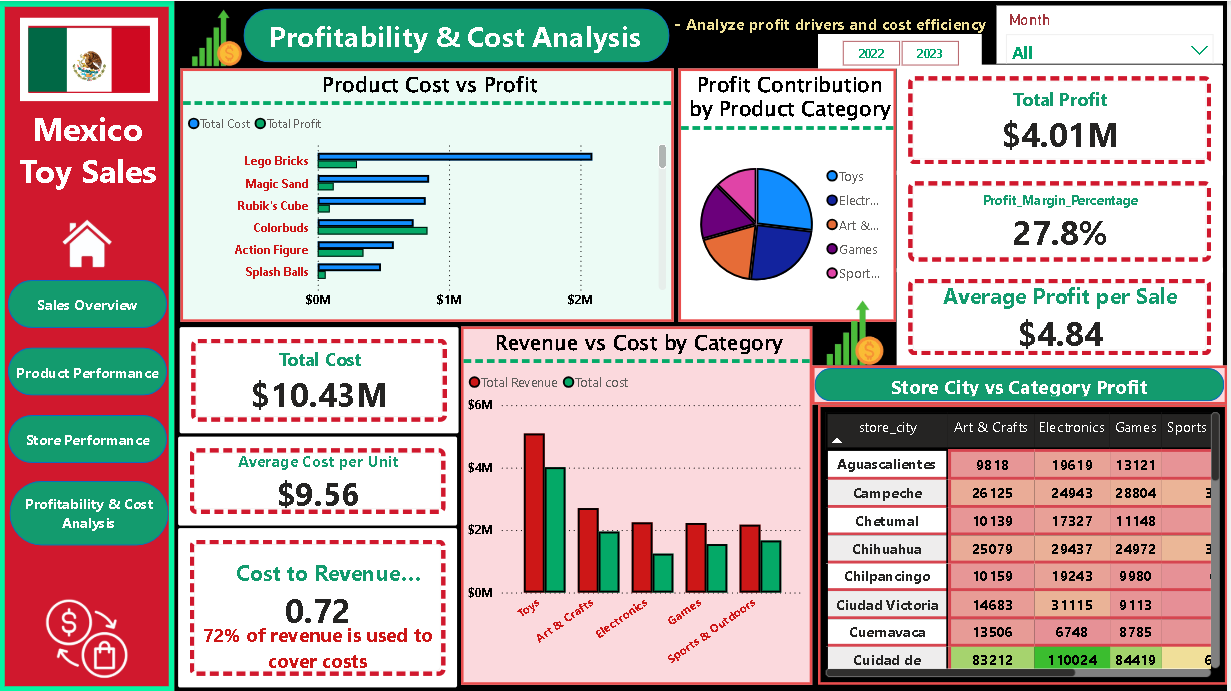

The dashboard page shown, as its layout file describes it:
{"tool":"powerbi","page":{"name":"Profitability & Cost Analysis","canvas":[1280,720],"ordinal":4},"visuals":[{"type":"shape","box":[0,0,182.9,720],"z":0},{"type":"image","box":[21.9,17.2,143.8,87.5],"z":1000},{"type":"shape","box":[6.3,104.7,171.9,98.5],"z":2000},{"type":"shape","box":[254.8,7.8,443.9,56.3],"z":3000},{"type":"image","box":[25,615.8,132.9,96.9],"z":4000},{"type":"cardVisual","fields":{"Data":["final (2).Avg Profit per Sale"]},"box":[930,272,350.1,114.1],"z":5000},{"type":"cardVisual","fields":{"Data":["final (2).Total_Profit"]},"box":[930,61,350.1,126.6],"z":6000},{"type":"cardVisual","fields":{"Data":["final (2).Average Cost per Unit"]},"box":[181.3,448.6,301.7,103.2],"z":7000},{"type":"shape","box":[9.4,290.7,165.7,50],"z":8000},{"type":"shape","box":[9.4,361.1,165.7,50],"z":9000},{"type":"actionButton","box":[26.6,295.4,132.9,40.6],"z":10000},{"type":"cardVisual","fields":{"Data":["final (2).Total Cost"]},"box":[182.9,334.5,301.7,121.9],"z":11000},{"type":"shape","box":[9.4,431.4,165.7,50],"z":12000},{"type":"actionButton","box":[10.9,365.7,165.7,40.6],"z":13000},{"type":"textbox","box":[698.7,4.7,343.9,56.3],"z":14000},{"type":"cardVisual","fields":{"Data":["final (2).Profit_Margin_Percentage"]},"box":[930,170.4,350.1,118.8],"z":15000},{"type":"cardVisual","fields":{"Data":["final (2).Cost to Revenue Ratio"]},"box":[181.3,543.9,301.7,176.6],"z":16000},{"type":"shape","box":[204.8,645.5,254.8,54.7],"z":17000},{"type":"clusteredBarChart","title":"Product Cost vs Profit","fields":{"Category":["final (2).product_name"],"Y":["final (2).Total Cost","final (2).Total_Profit"]},"box":[189.1,70.3,514.2,264.1],"z":18000},{"type":"clusteredColumnChart","title":"Revenue vs Cost by Category","fields":{"Y":["final (2).Total_Revenue","Sum(final (2).total_cost)"],"Category":["final (2).product_category"]},"box":[481.4,339.2,365.7,373.6],"z":19000},{"type":"pieChart","title":"Profit Contribution by Product Category","fields":{"Category":["final (2).product_category"],"Y":["Sum(final (2).profit)"]},"box":[708,70.3,226.6,264.1],"z":20000},{"type":"pivotTable","fields":{"Rows":["final (2).store_city"],"Columns":["final (2).product_category"],"Values":["Sum(final (2).profit)"]},"box":[853.4,420.4,426.7,292.3],"z":21000},{"type":"shape","box":[847.1,379.8,432.9,40.6],"z":22000},{"type":"image","box":[822.1,301.7,134.4,98.5],"z":23000},{"type":"image","box":[157.9,0,134.4,86],"z":24000},{"type":"slicer","fields":{"Values":["final (2).month_name"]},"box":[1039.4,4.7,236,61],"z":25000},{"type":"slicer","fields":{"Values":["final (2).sale_year"]},"box":[853.4,34.4,170.4,35.9],"z":26000},{"type":"shape","box":[10.9,500.2,165.7,67.2],"z":27000},{"type":"actionButton","box":[21.9,436.1,143.8,40.6],"z":28000},{"type":"image","box":[57.8,214.1,68.8,81.3],"z":29000}]}

Visuals, with their boxes in screenshot pixels (x1, y1, x2, y2), scaled from the page's 1280x720 canvas onto the 1231x691 screenshot:
shape: select_region(0, 0, 176, 690)
image: select_region(21, 17, 159, 100)
shape: select_region(6, 100, 171, 195)
shape: select_region(245, 7, 672, 62)
image: select_region(24, 591, 152, 684)
cardVisual - final (2).Avg Profit per Sale: select_region(894, 261, 1230, 371)
cardVisual - final (2).Total_Profit: select_region(894, 59, 1230, 180)
cardVisual - final (2).Average Cost per Unit: select_region(174, 431, 465, 530)
shape: select_region(9, 279, 168, 327)
shape: select_region(9, 347, 168, 395)
actionButton: select_region(26, 284, 153, 322)
cardVisual - final (2).Total Cost: select_region(176, 321, 466, 438)
shape: select_region(9, 414, 168, 462)
actionButton: select_region(10, 351, 170, 390)
textbox: select_region(672, 5, 1003, 59)
cardVisual - final (2).Profit_Margin_Percentage: select_region(894, 164, 1230, 278)
cardVisual - final (2).Cost to Revenue Ratio: select_region(174, 522, 465, 690)
shape: select_region(197, 620, 442, 672)
"Product Cost vs Profit" clusteredBarChart: select_region(182, 67, 676, 321)
"Revenue vs Cost by Category" clusteredColumnChart: select_region(463, 326, 815, 684)
"Profit Contribution by Product Category" pieChart: select_region(681, 67, 899, 321)
pivotTable - final (2).store_city x final (2).product_category: select_region(821, 403, 1230, 684)
shape: select_region(815, 365, 1230, 403)
image: select_region(791, 290, 920, 384)
image: select_region(152, 0, 281, 83)
slicer - final (2).month_name: select_region(1000, 5, 1227, 63)
slicer - final (2).sale_year: select_region(821, 33, 985, 67)
shape: select_region(10, 480, 170, 545)
actionButton: select_region(21, 419, 159, 457)
image: select_region(56, 205, 122, 284)
